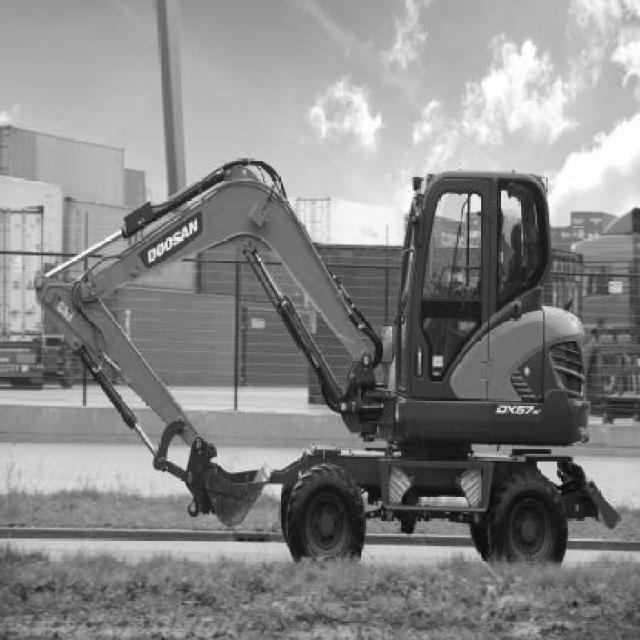Construction Equipment: (38, 161, 619, 566)
